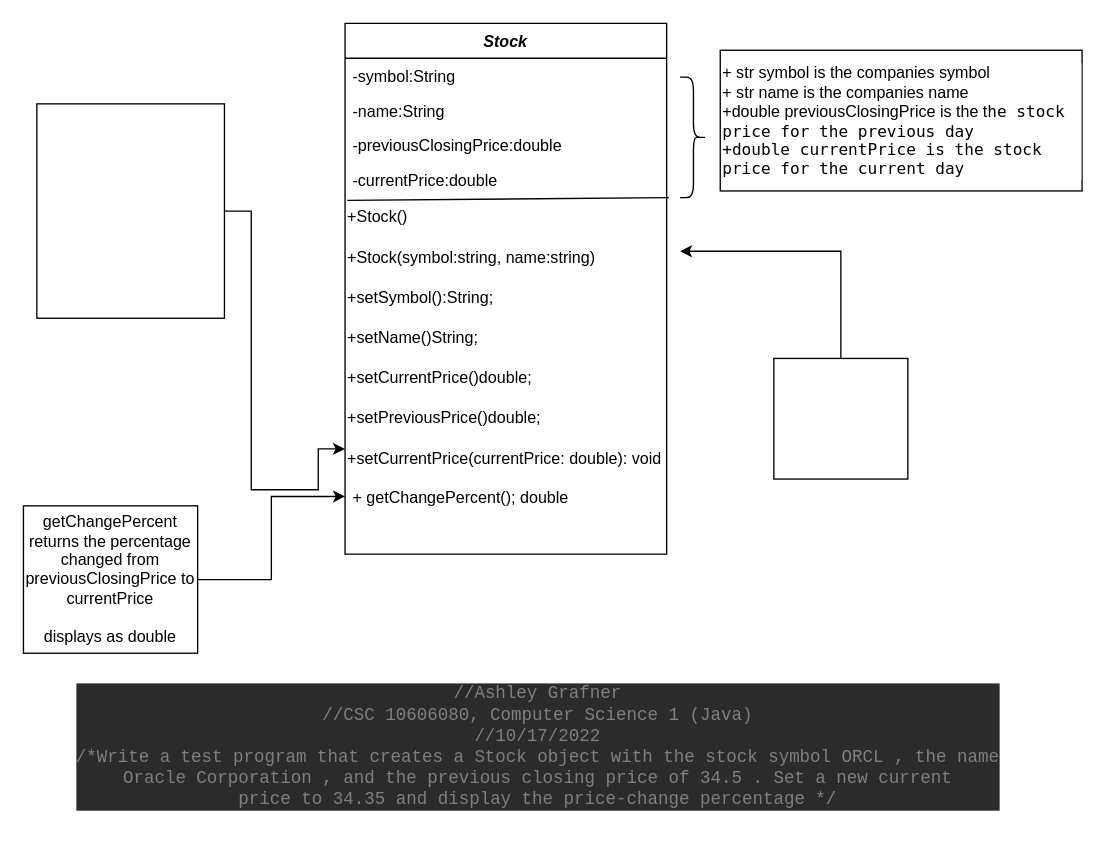
Some shapes in this 1106 by 851 pixel diagram are drawn without their labels. Each missing label, with the box of its shape:
Allows us to set values for setCurrentPrice and setPreviousPrice in testing: (36, 103, 224, 318)
construct stock with a specified symbol and name: (773, 357, 908, 479)
